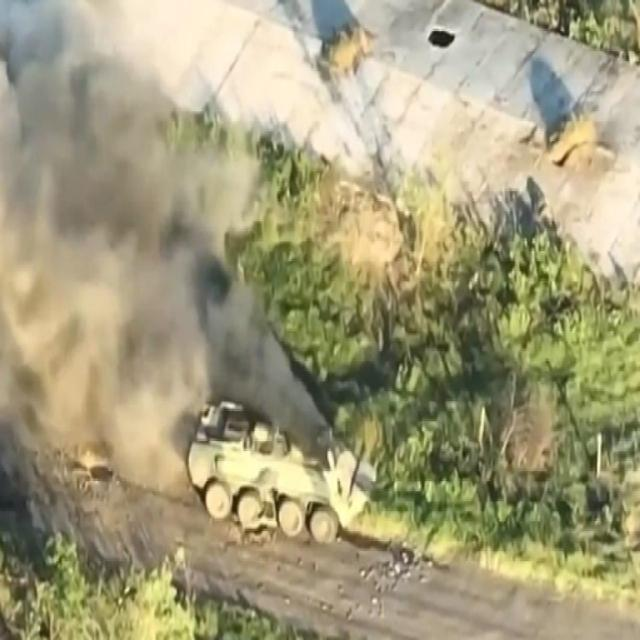APC-IFV: (176, 380, 375, 556)
